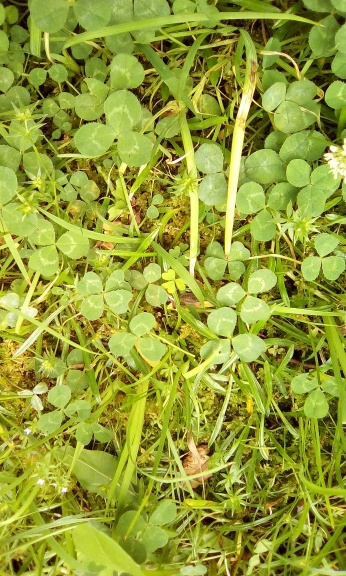4leaf: (75, 269, 133, 322)
